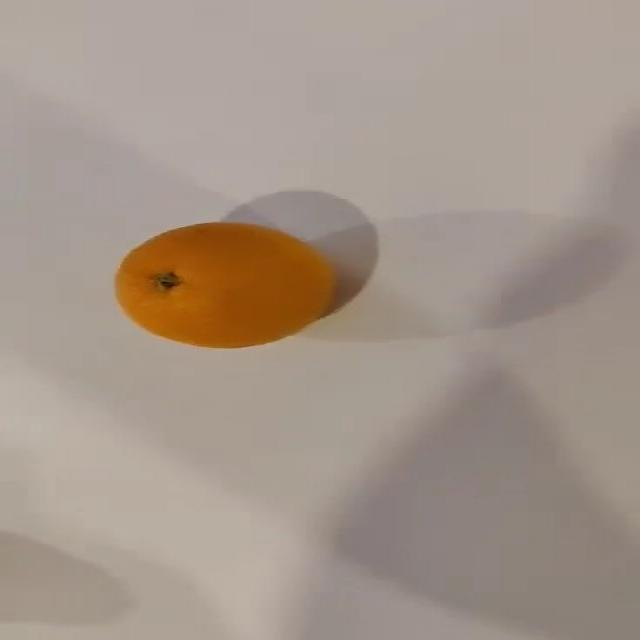Orange: (110, 218, 338, 354)
